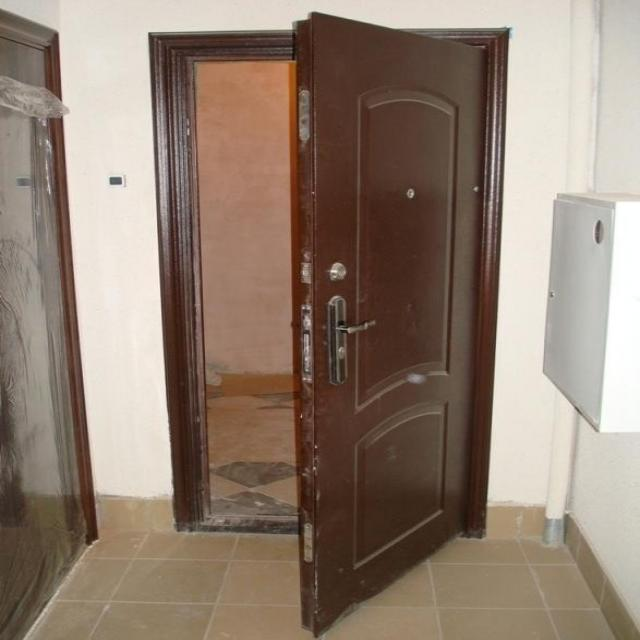open: (156, 36, 503, 591)
